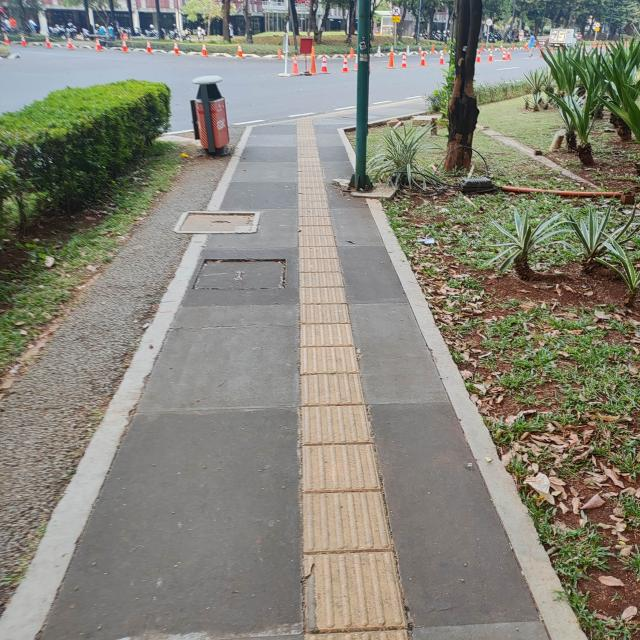lurus: (295, 118, 382, 640)
